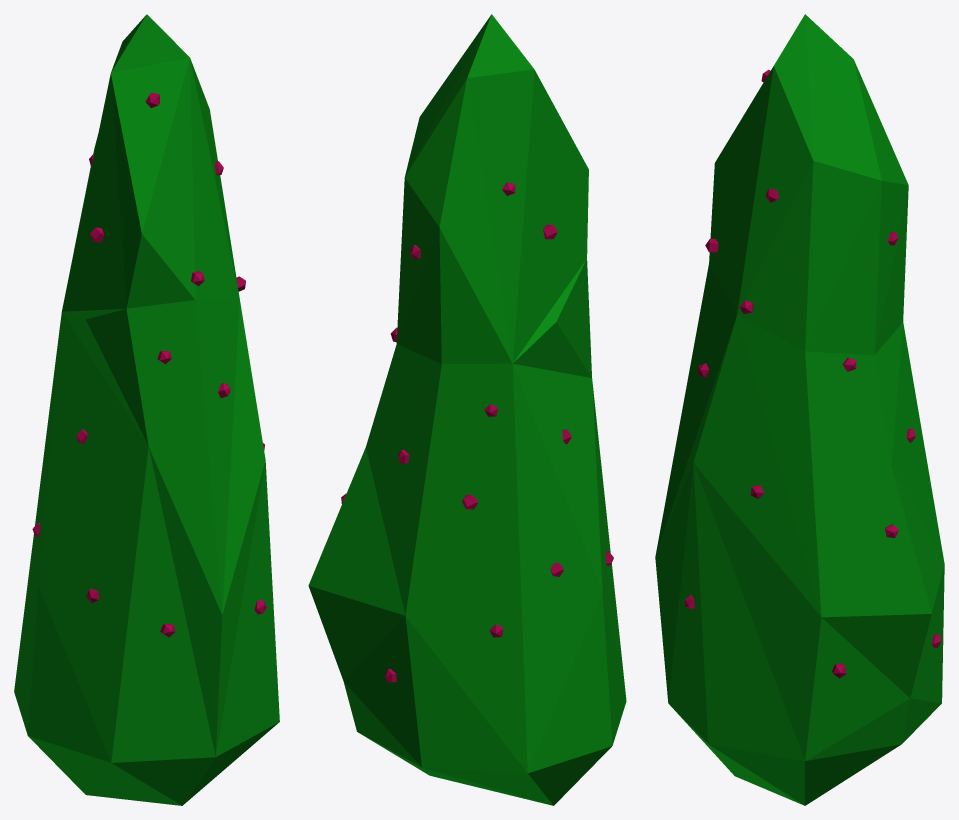
File: SM_TallBerryBush.fbx
3 views of the same model, side by side, from view 1: azimuth 30°, elevation 25°; view 2: azimuth 150°, elevation 25°; view 3: azimuth 270°, elevation 25° (orthographic).
Parts seen in each view (by area): view 1: pCylinder5; view 2: pCylinder5; view 3: pCylinder5.
Boxes of the visible parts, left/top/right/bottom form: pCylinder5: left=14, top=14, right=279, bottom=805; pCylinder5: left=308, top=14, right=626, bottom=805; pCylinder5: left=655, top=14, right=944, bottom=805.
Size of the model in its own units: 168 by 502 by 173.
